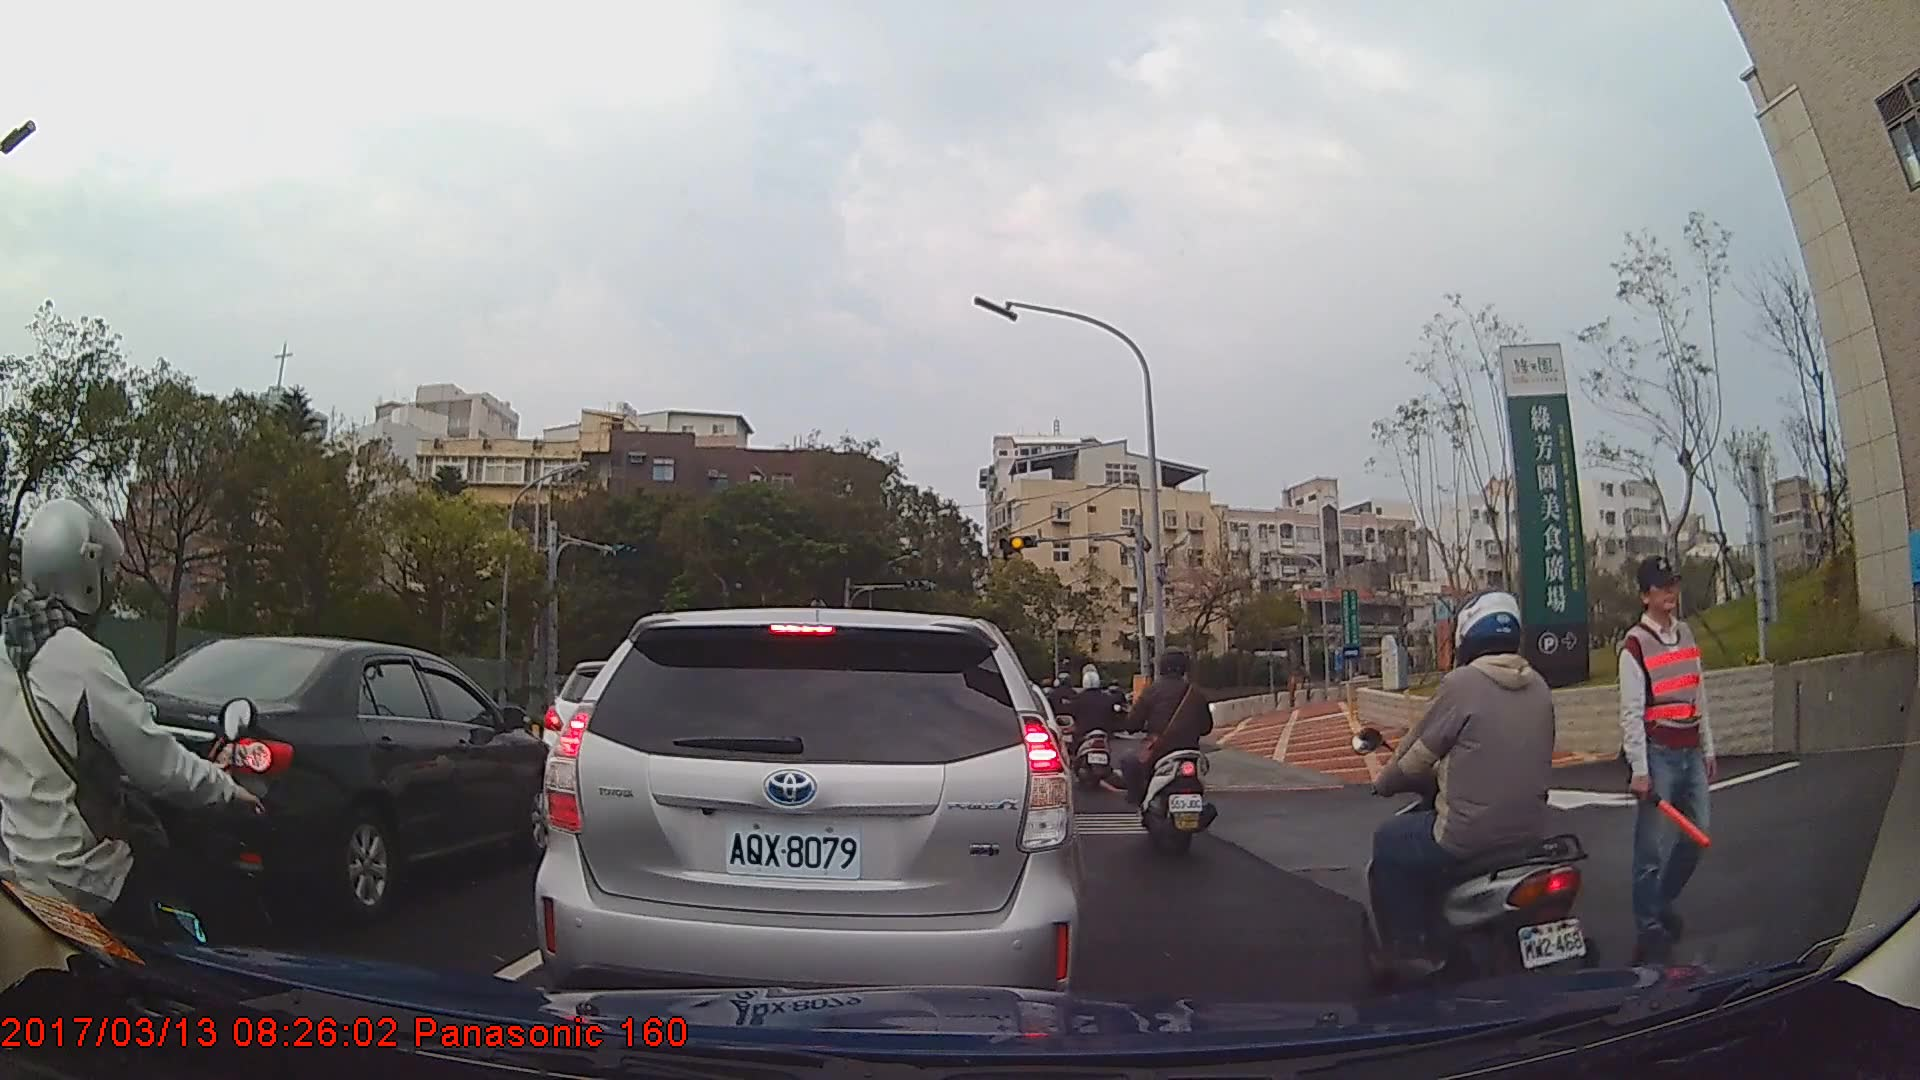pedestrian: (1616, 551, 1724, 953)
rider: (4, 490, 308, 1071), (1356, 588, 1594, 1021), (1120, 649, 1220, 853), (1075, 665, 1124, 796), (1046, 672, 1087, 768)
vehicle: (530, 608, 1082, 1023), (66, 633, 560, 917)
